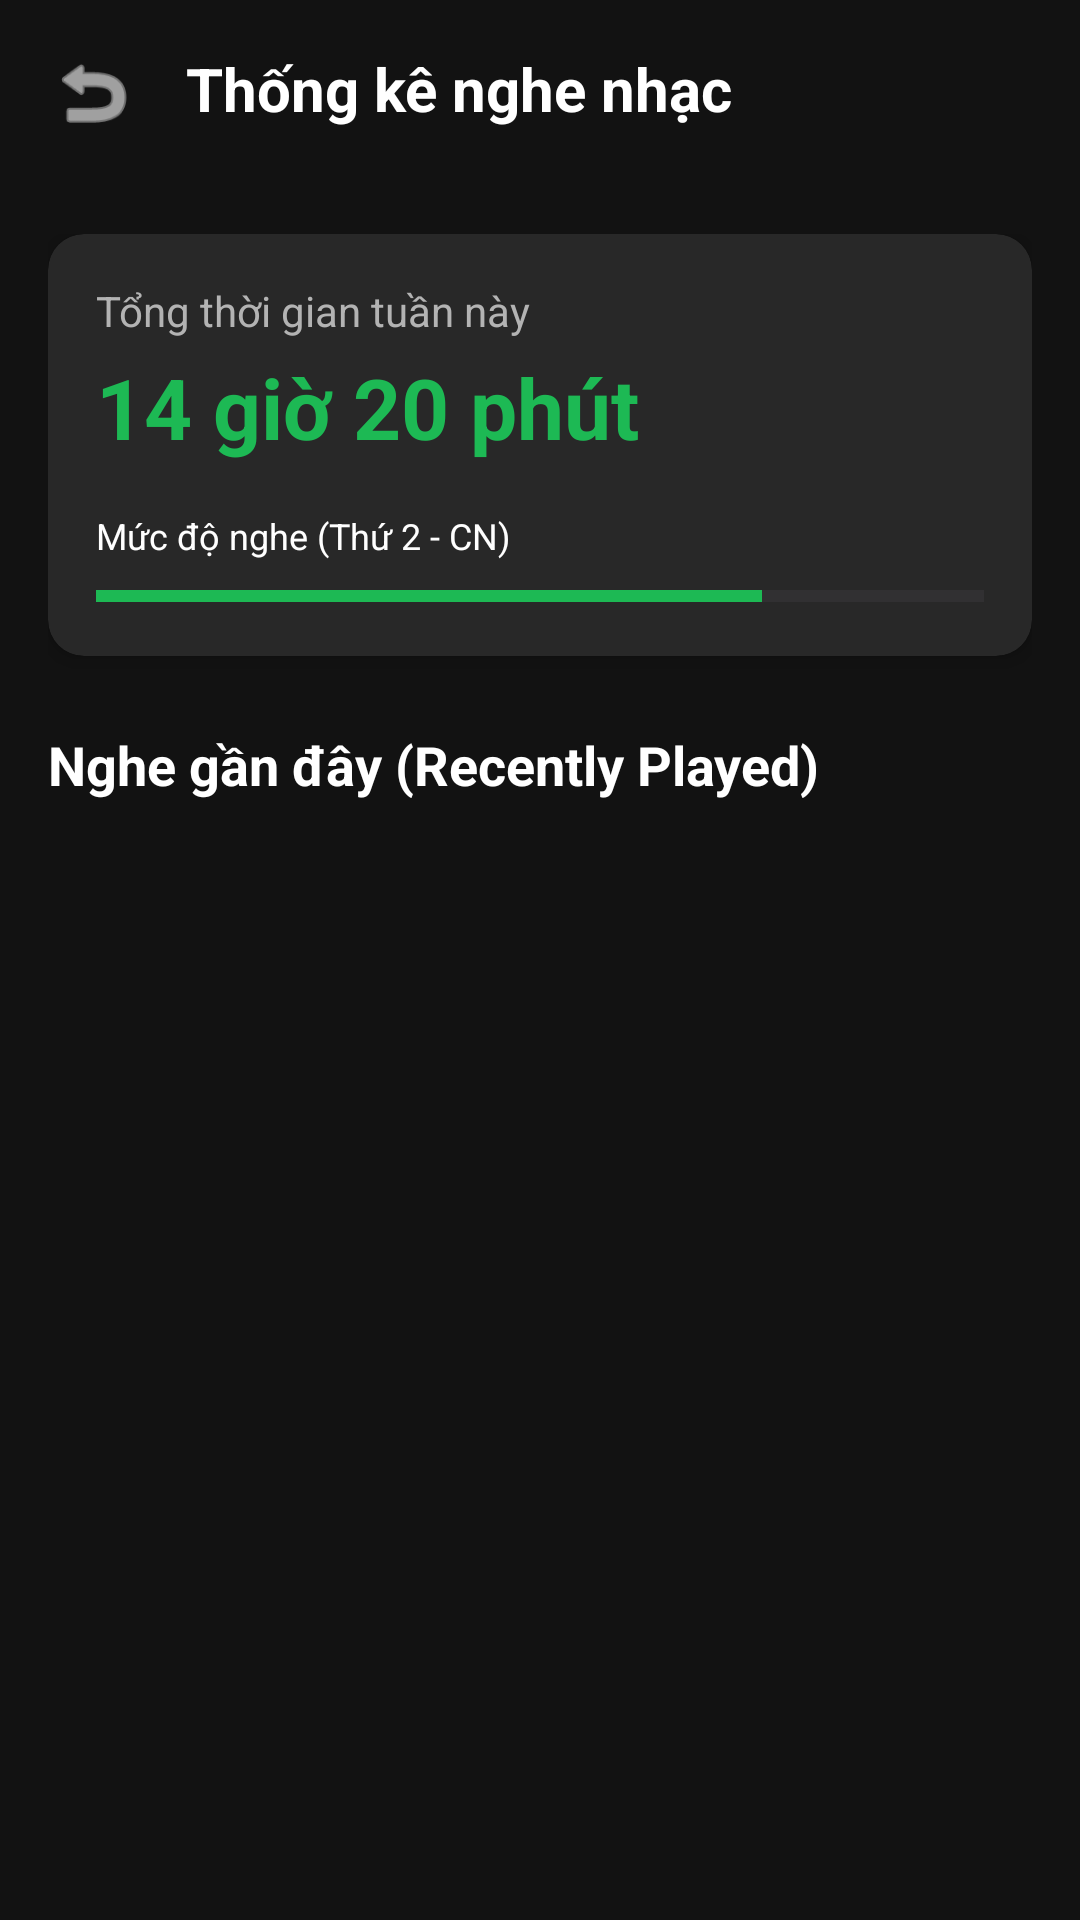

Screen size 1080x1920. Icon name, then its center in pixels as [x,y]:
revert: [94,93]
